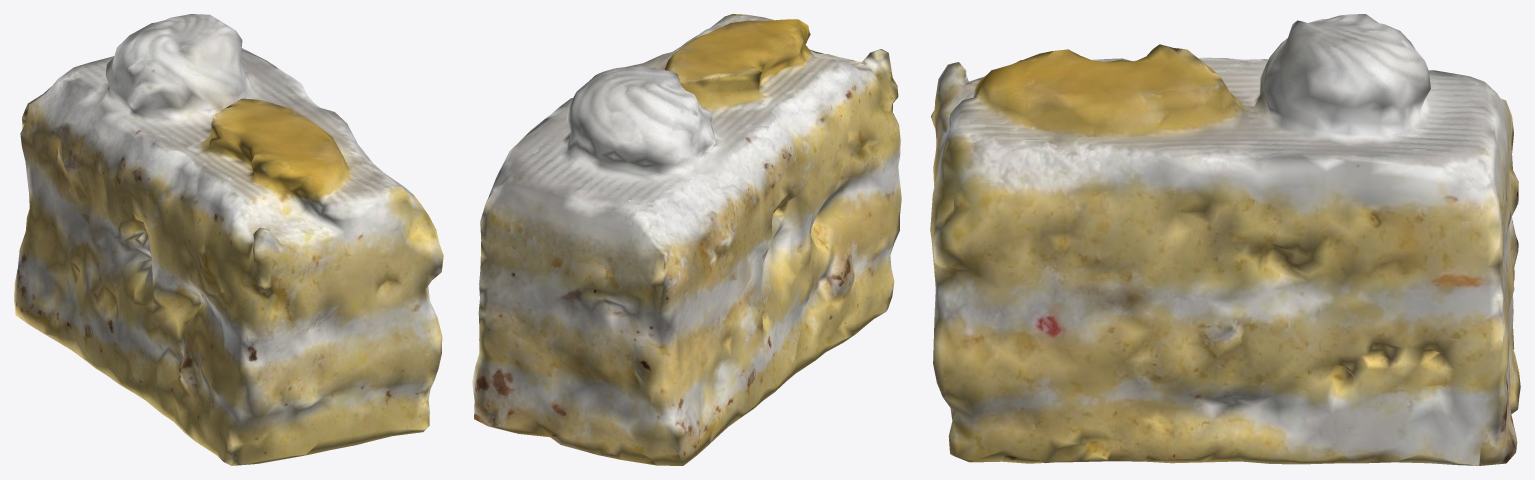
File: булка5 (1).glb
The picture shows the model from 3 angles, left to right: view 1: azimuth 30°, elevation 25°; view 2: azimuth 150°, elevation 25°; view 3: azimuth 270°, elevation 25°; orthographic projection. The views are drawn at different scales.
Visible parts, largest first — view 1: 3DModel_Retopo; view 2: 3DModel_Retopo; view 3: 3DModel_Retopo.
Boxes of the visible parts, x1,y1,x2,y2 form: 3DModel_Retopo: (14,14,443,465); 3DModel_Retopo: (472,14,901,465); 3DModel_Retopo: (930,14,1520,465).
Bounding box in the file's own units: 0.5505 × 0.7656 × 1.08.
1 material, 1 textured.
